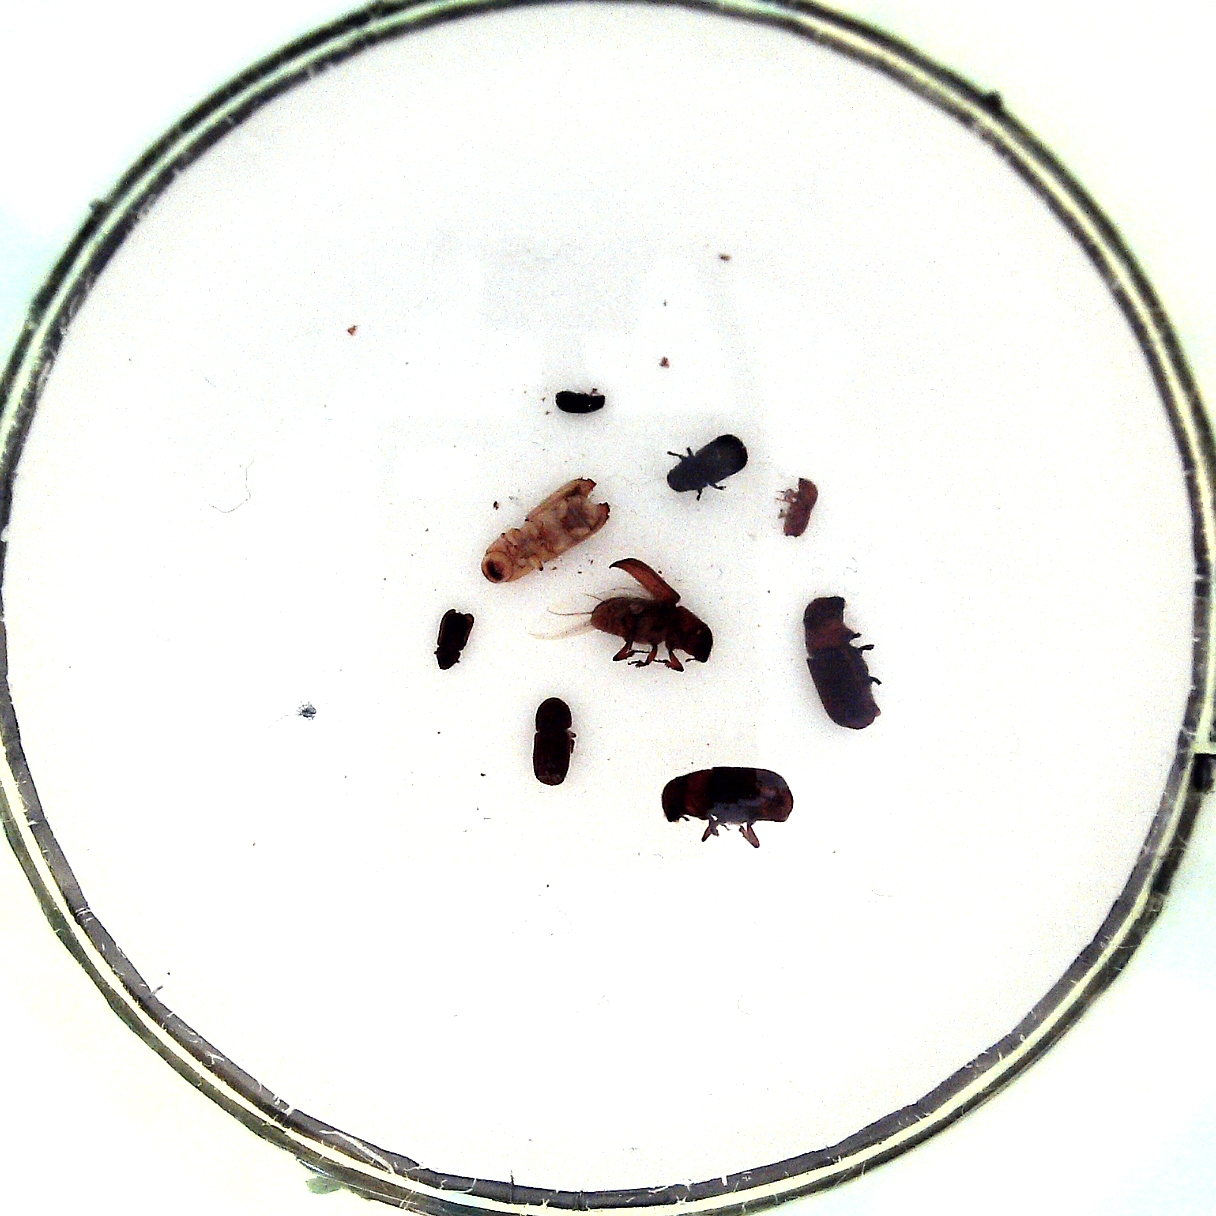Boerner: (475, 473, 615, 587)
Leconte: (526, 556, 718, 678), (656, 761, 803, 850), (800, 591, 889, 735)
Linnaeus: (528, 696, 579, 787)
acuminatus: (771, 474, 826, 540)
armandi: (664, 430, 753, 501)
coleoptera: (430, 604, 477, 674), (553, 384, 608, 419)
